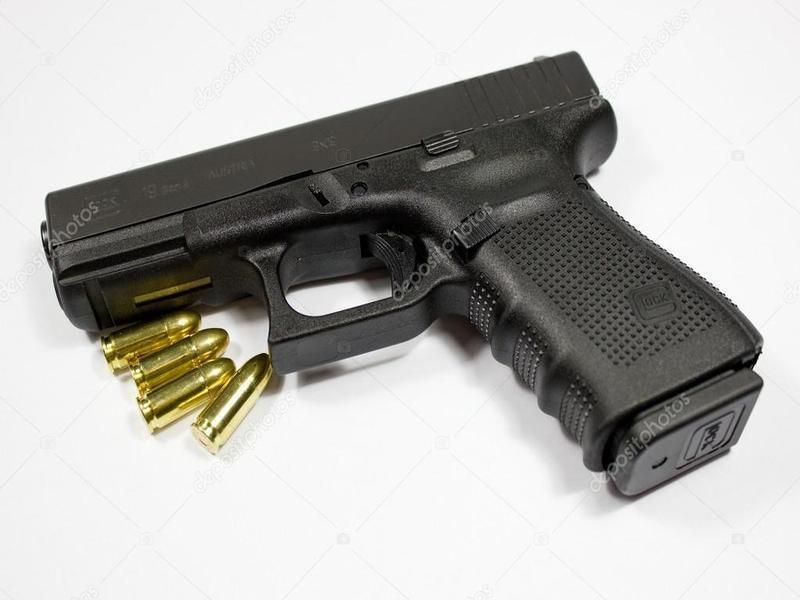GUN: (36, 48, 771, 498)
